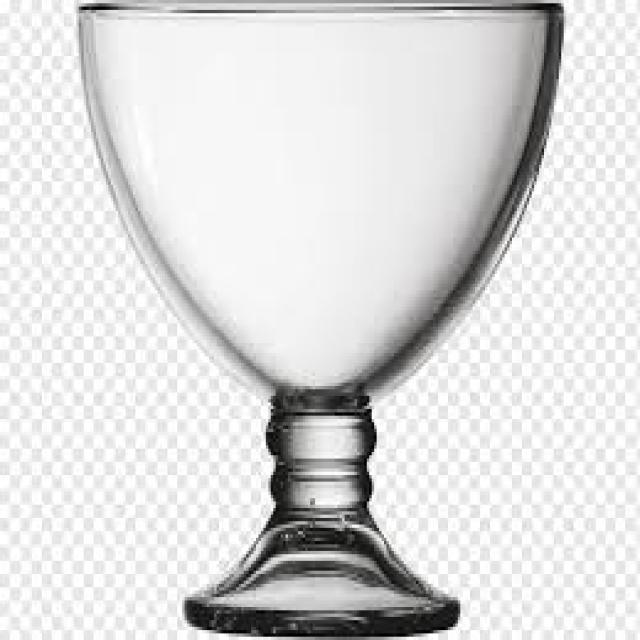glass: (77, 0, 562, 637)
